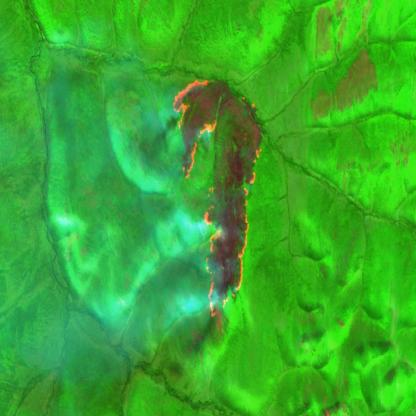fire: (165, 68, 266, 343)
